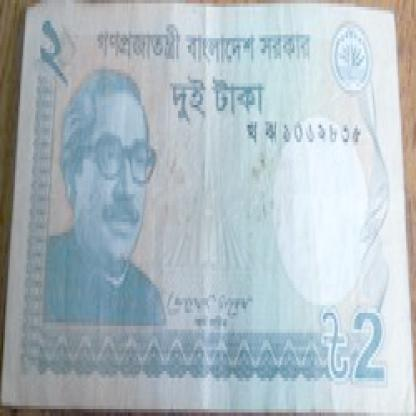two taka: (348, 302, 392, 398), (33, 10, 83, 80)
